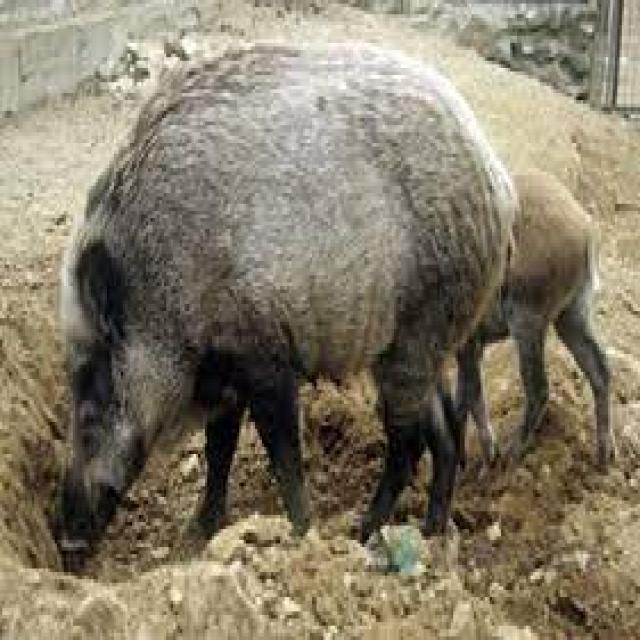boar: (32, 18, 517, 640)
